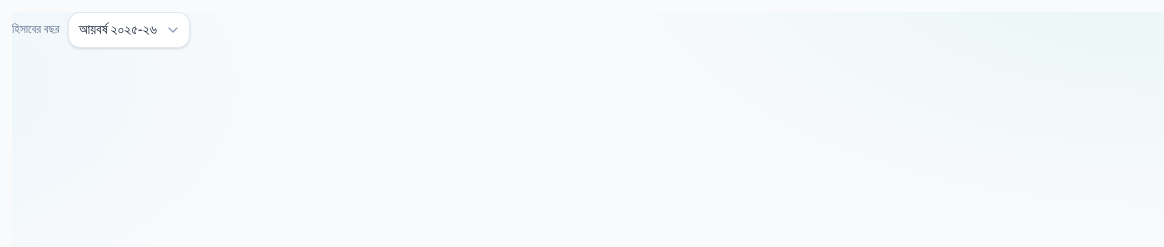
Scenario: Select › selects with the mouse and closes
The width and height of the screenshot is (1164, 247).
Click the dropdown named "হিসাবের বছর" at (129, 30), box [68,12,190,48]
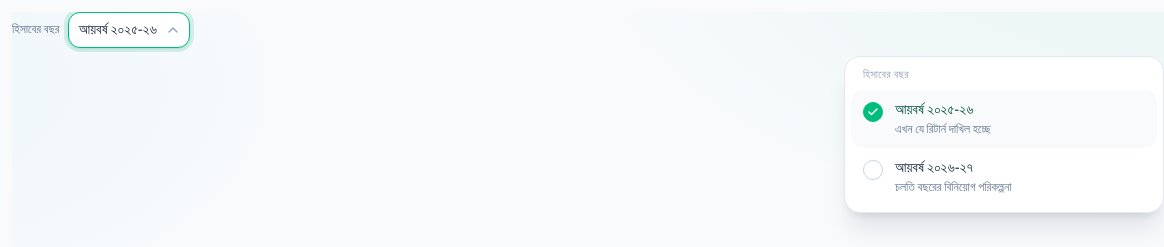
Click the text "আয়বর্ষ ২০২৬-২৭" at (934, 167), box [895,156,973,178]
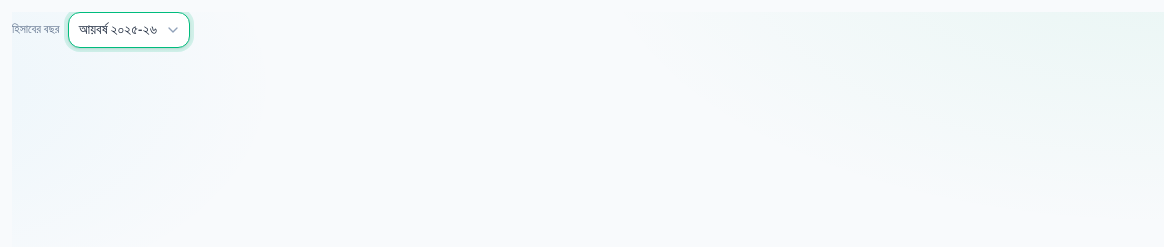
Expected: the list is gone
